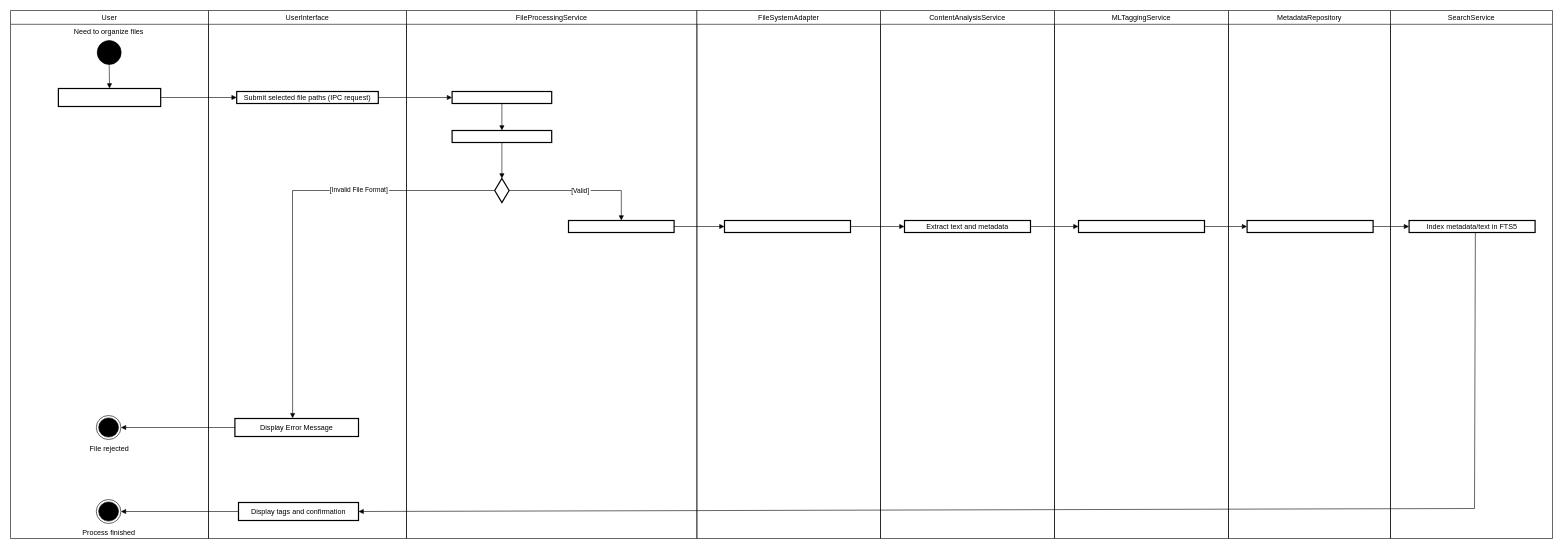
Image size: 1563x552. Some labels were removed from this diagram. Here are the shapes that lost their labels. From the top down, the centre of each, then its label:
At point (109, 97): "Select files for processing".
At point (501, 97): "Create ingestion request".
At point (501, 136): "Validate file format".
At point (621, 226): "Request file read".
At point (787, 226): "Read file bytes from OS File System".
At point (1141, 226): "Generate semantic tags".
At point (1309, 226): "Save metadata and tags to SQLite".
